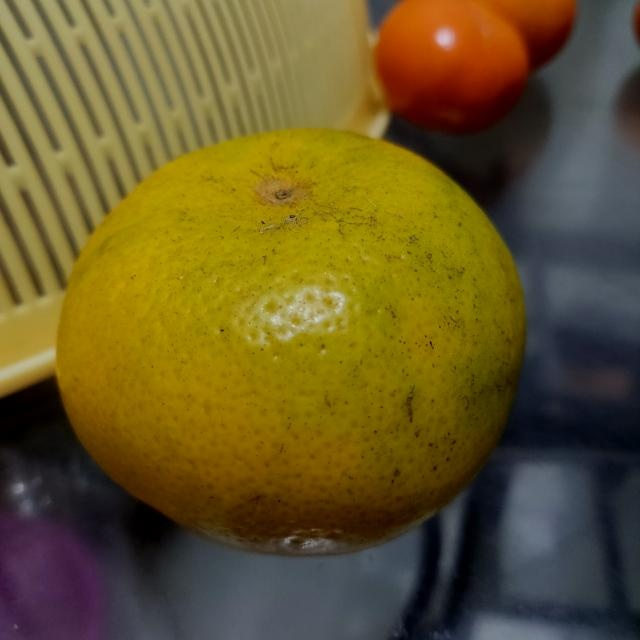agrume: (52, 126, 532, 557)
